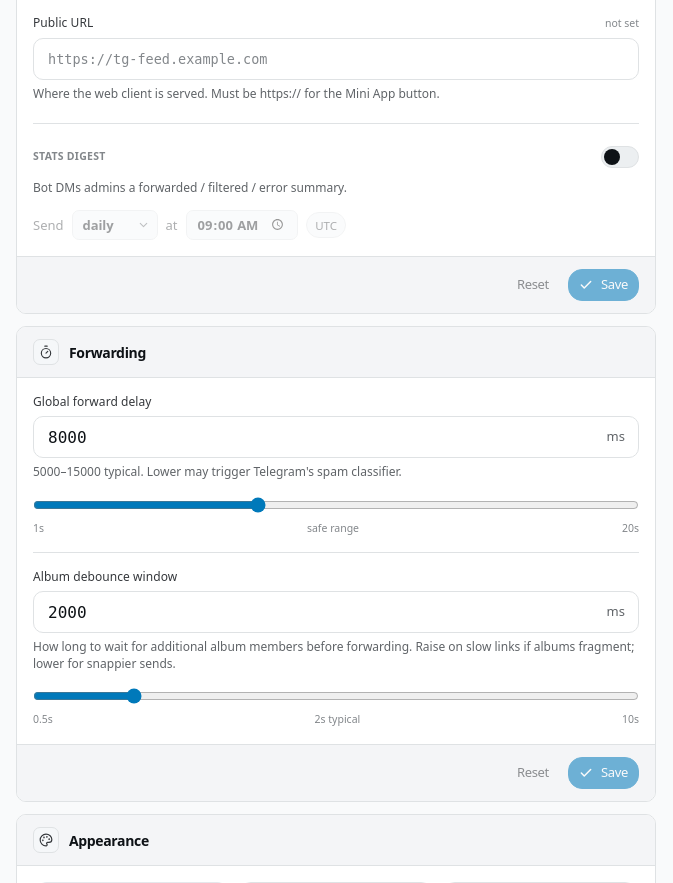
Test: SettingsPage › shows the spam-classifier warning when delay drops below 4000ms
(page scrolled)
Replace the text in the number field labelled "Global forward delay" with "3000": (336, 437) [33,416,639,458]
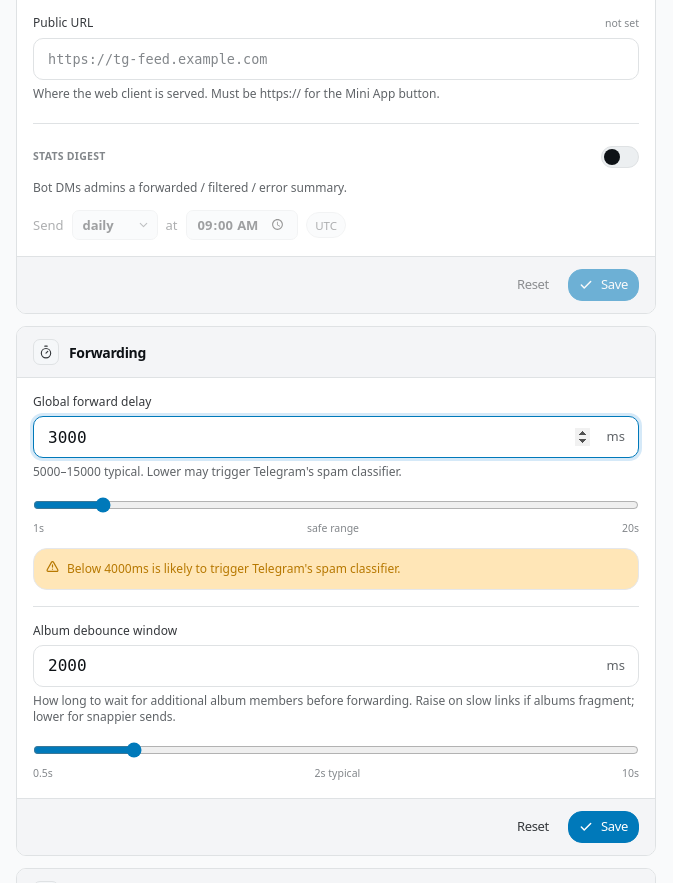
Result: the message shows "spam classifier" at [132,560,400,577]
